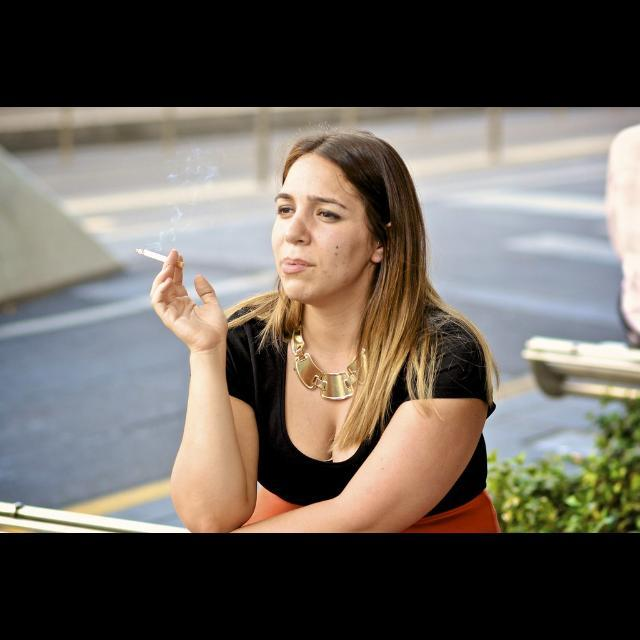rokok: (134, 246, 188, 270)
